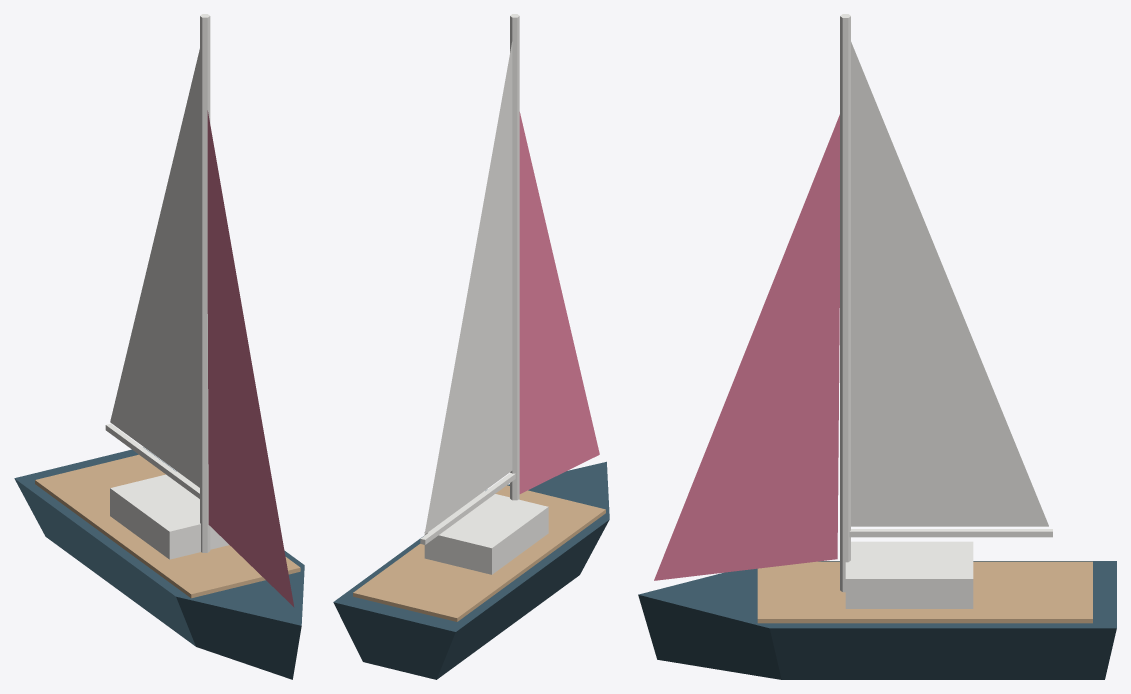
The model's file is Sailboat.fbx.
3 renders of one model, left to right at view 1: azimuth 30°, elevation 25°; view 2: azimuth 150°, elevation 25°; view 3: azimuth 270°, elevation 25°, orthographic. The views are drawn at different scales.
Parts seen in each view (by area): view 1: Sailboat; view 2: Sailboat; view 3: Sailboat.
Part boxes in pixels (x1,y1,x2,y2): Sailboat: (14, 14, 304, 679); Sailboat: (333, 14, 609, 679); Sailboat: (638, 14, 1116, 679).
Size of the model in its own units: 2 by 8.9 by 6.
